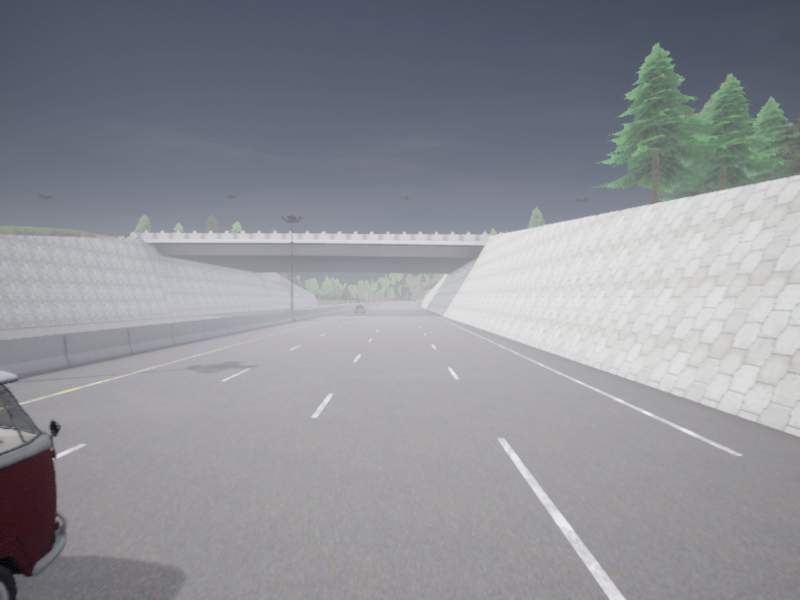vehicle: (0, 370, 66, 599), (355, 305, 366, 313)
